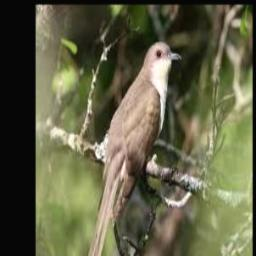Cuckoo: (80, 41, 181, 256)
